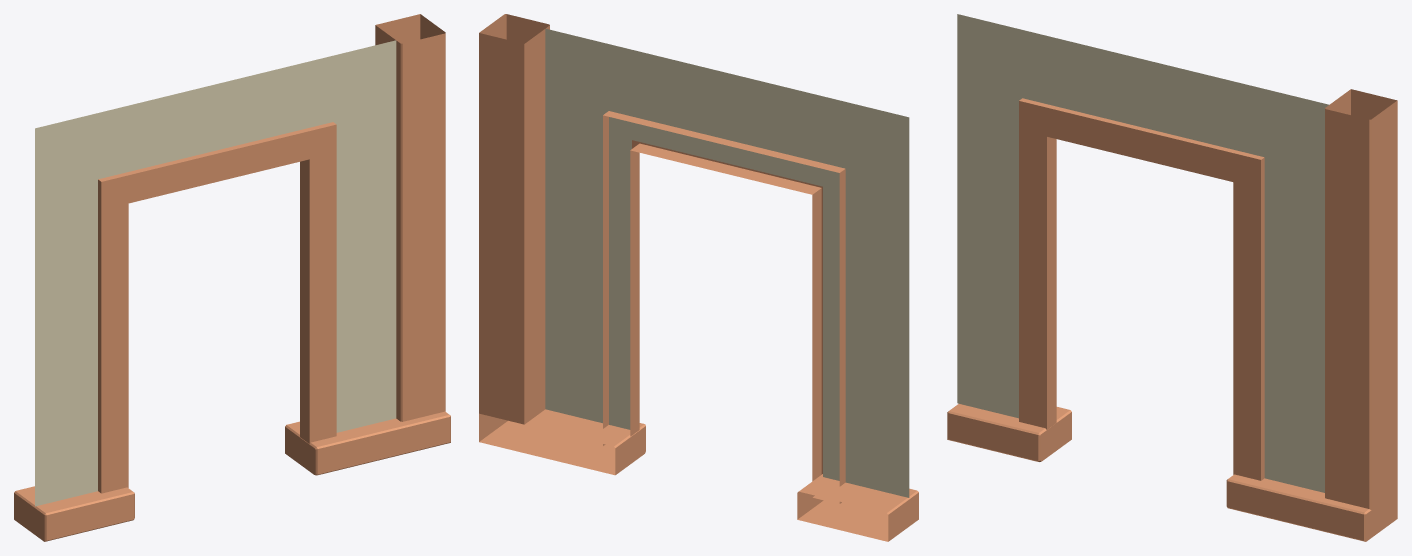
File: Wall_door.fbx
The picture shows the model from 3 angles, left to right: view 1: azimuth 30°, elevation 25°; view 2: azimuth 150°, elevation 25°; view 3: azimuth 330°, elevation 25°; orthographic projection. The views are drawn at different scales.
Visible parts, largest first — view 1: Wall_door_low, Wall_door_plank_low, Wall_doorframe_low; view 2: Wall_door_low, Wall_door_plank_low, Wall_doorframe_low; view 3: Wall_door_low, Wall_door_plank_low, Wall_doorframe_low.
Boxes of the visible parts, left/top/right/bottom form: Wall_door_low: left=35, top=40, right=396, bottom=506; Wall_door_plank_low: left=14, top=14, right=450, bottom=541; Wall_doorframe_low: left=98, top=122, right=336, bottom=493; Wall_door_low: left=545, top=28, right=909, bottom=497; Wall_door_plank_low: left=479, top=14, right=918, bottom=541; Wall_doorframe_low: left=603, top=111, right=845, bottom=504; Wall_door_low: left=957, top=14, right=1328, bottom=492; Wall_door_plank_low: left=947, top=89, right=1397, bottom=541; Wall_doorframe_low: left=1019, top=98, right=1264, bottom=480.
Bounding box in the file's own units: 450 × 430 × 60.
